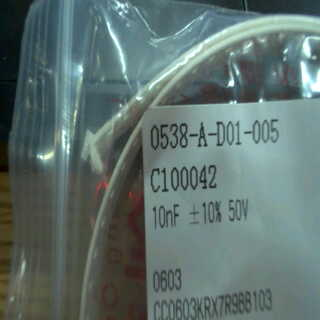10nF: (150, 201, 184, 231)
